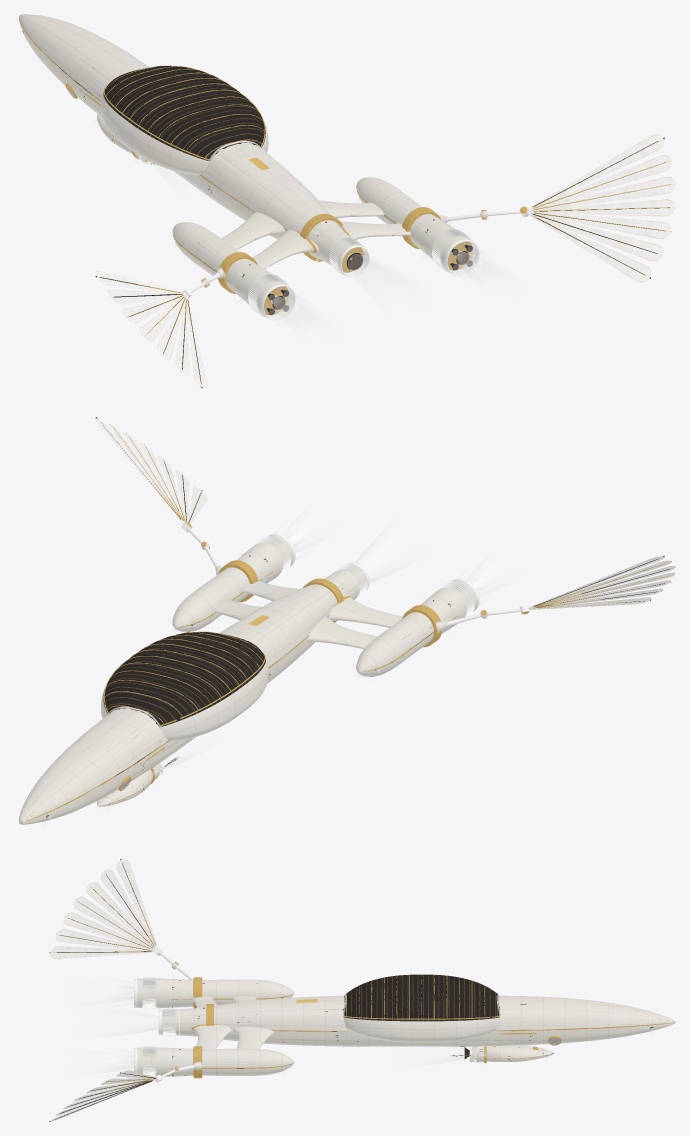
File: Solstice.glb
3 renders of one model, top to bottom at view 1: azimuth 30°, elevation 25°; view 2: azimuth 150°, elevation 25°; view 3: azimuth 270°, elevation 25°, orthographic. The views are drawn at different scales.
Visible parts, largest first — view 1: hull, detail, plume; view 2: hull, detail, plume; view 3: hull, detail, plume.
Boxes of the visible parts, left/top/right/bottom form: hull: left=19, top=14, right=455, bottom=304; detail: left=19, top=19, right=675, bottom=388; plume: left=153, top=163, right=500, bottom=336; hull: left=19, top=544, right=464, bottom=824; detail: left=18, top=418, right=675, bottom=821; plume: left=162, top=518, right=500, bottom=768; hull: left=158, top=974, right=675, bottom=1076; detail: left=50, top=859, right=672, bottom=1121; plume: left=76, top=980, right=464, bottom=1075.
Size of the model in its own units: 167 by 39.17 by 219.
6 materials, 5 textured.
